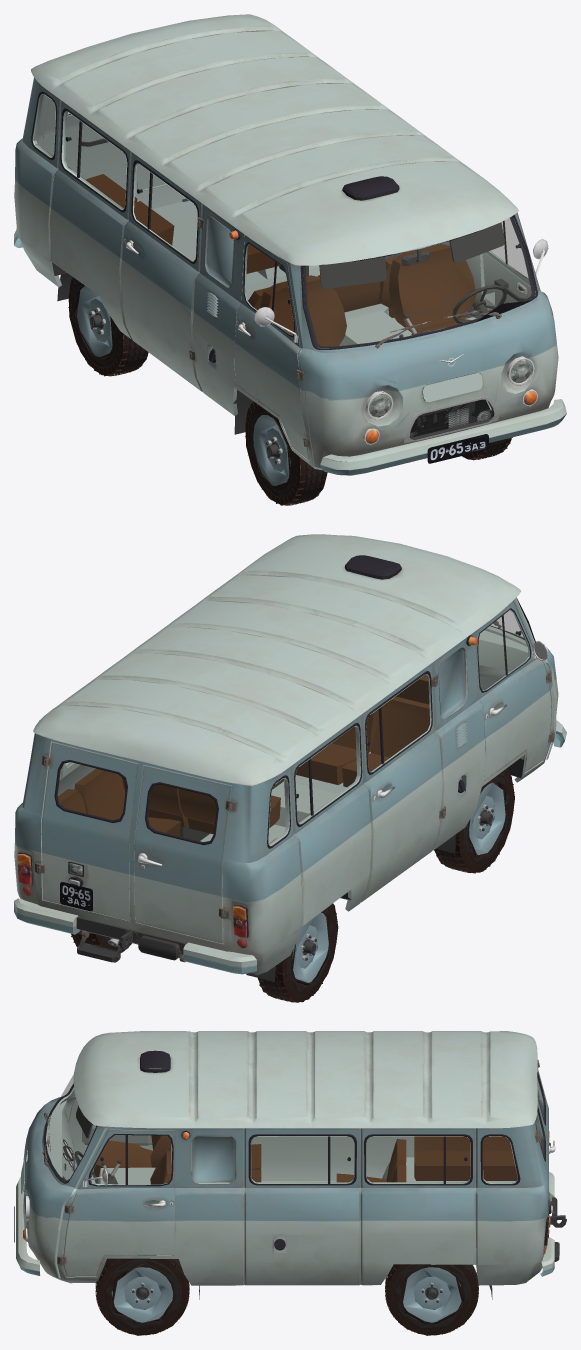
The model's file is uaz-452-classic-bukhanochka-7d032b.glb.
The picture shows the model from 3 angles, top to bottom: view 1: azimuth 30°, elevation 25°; view 2: azimuth 150°, elevation 25°; view 3: azimuth 270°, elevation 25°; orthographic projection. The views are drawn at different scales.
Parts seen in each view (by area): view 1: body, wheel-front-right, wheel-back-right; view 2: body, wheel-front-right, wheel-back-right; view 3: body, wheel-front-left, wheel-back-left.
Part boxes in pixels (x1=…): body: x1=14, y1=14, x2=566, y2=475; wheel-front-right: x1=245, y1=401, x2=327, y2=505; wheel-back-right: x1=68, y1=277, x2=148, y2=376; body: x1=14, y1=534, x2=566, y2=981; wheel-front-right: x1=434, y1=769, x2=514, y2=873; wheel-back-right: x1=258, y1=903, x2=338, y2=1002; body: x1=14, y1=1031, x2=566, y2=1309; wheel-front-left: x1=95, y1=1258, x2=189, y2=1335; wheel-back-left: x1=385, y1=1264, x2=478, y2=1335.
Bounding box in the file's own units: 2.38 × 2.23 × 4.75.
Materials: 22 (8 with a texture image).
